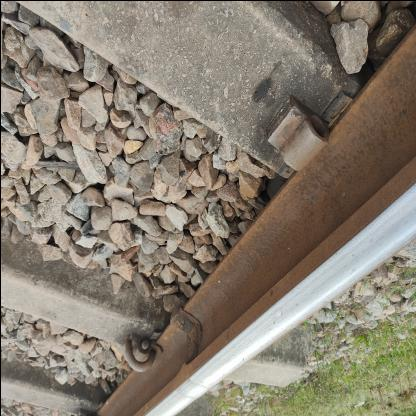Defective: (234, 72, 354, 196)
